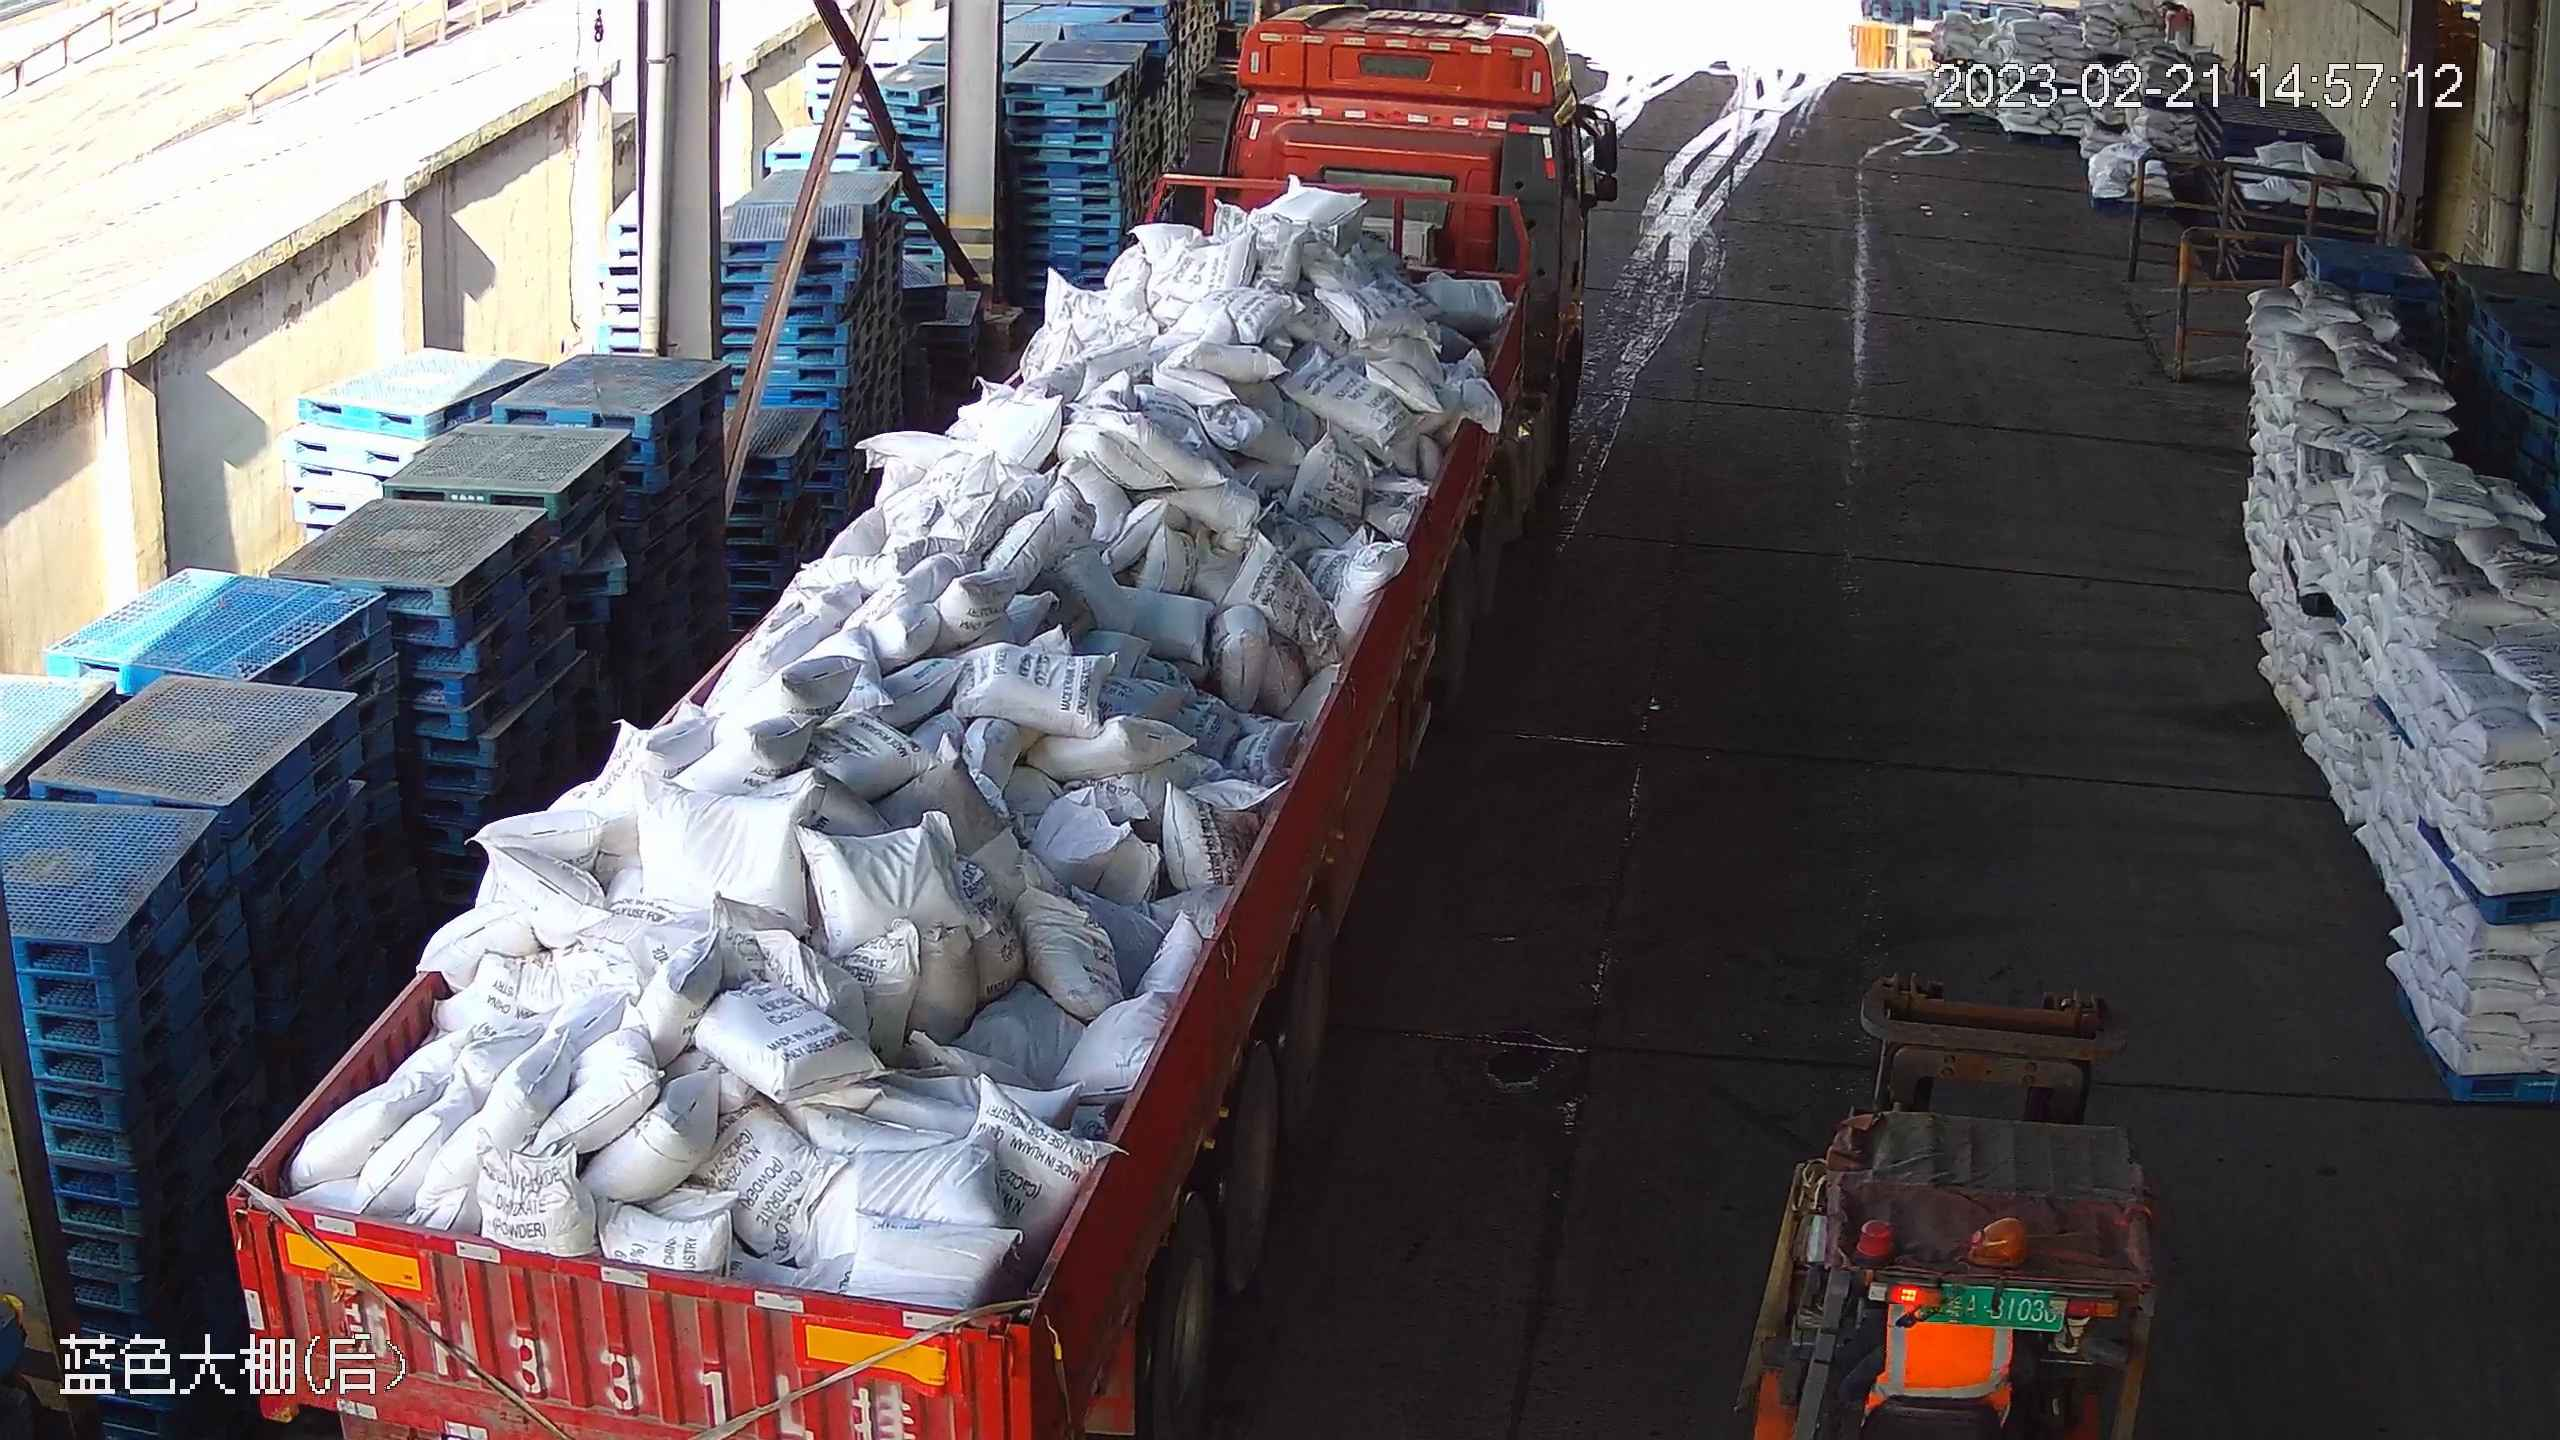truck: (218, 2, 1602, 1436)
